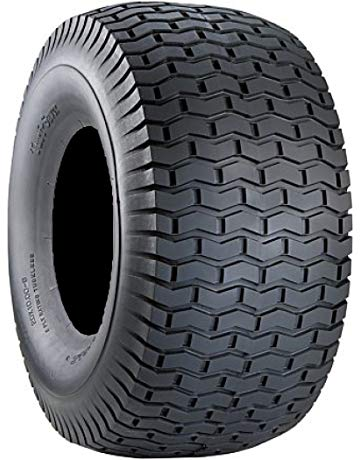tire: (7, 4, 355, 459)
